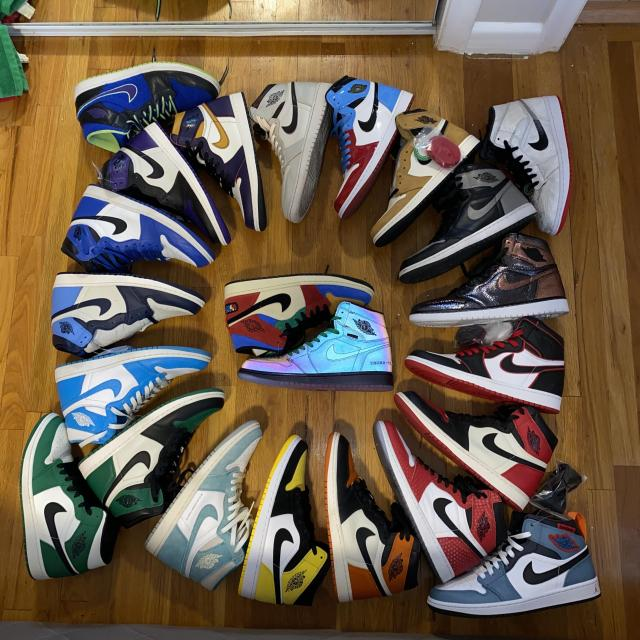shoes: (372, 418, 511, 583), (392, 387, 560, 512), (145, 420, 266, 592), (79, 387, 226, 526), (427, 512, 606, 620), (326, 432, 425, 606), (397, 163, 538, 284), (19, 412, 119, 581), (97, 122, 231, 247), (237, 434, 330, 609), (406, 317, 566, 417), (368, 108, 482, 248), (54, 346, 213, 443), (236, 300, 396, 394), (408, 234, 571, 326), (170, 91, 270, 233), (60, 183, 215, 272), (51, 270, 208, 357), (74, 60, 222, 152), (326, 74, 415, 222), (484, 94, 572, 238), (248, 79, 332, 226), (223, 273, 375, 354)
